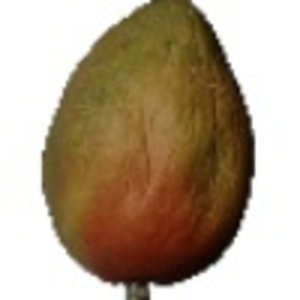mamão: (37, 2, 261, 291)
